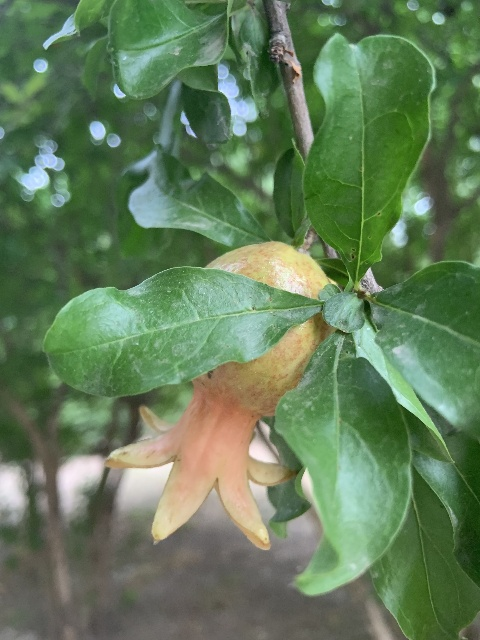early-fruit: (102, 242, 334, 553)
